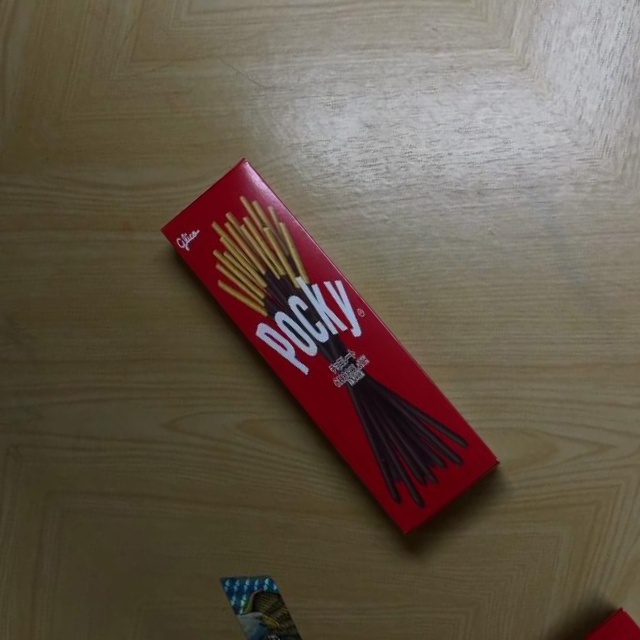Pocky: (152, 153, 505, 540)
